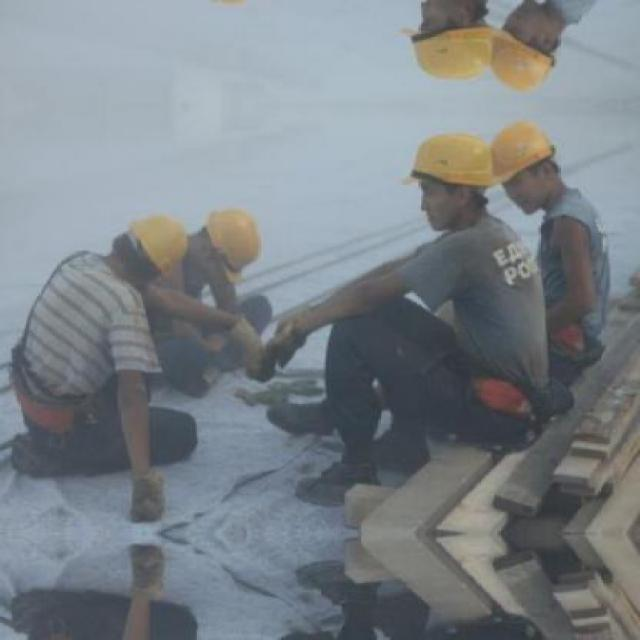helmet: (406, 125, 508, 231), (406, 0, 509, 89), (482, 0, 566, 99), (482, 116, 564, 214), (191, 202, 266, 281), (117, 205, 192, 281)
